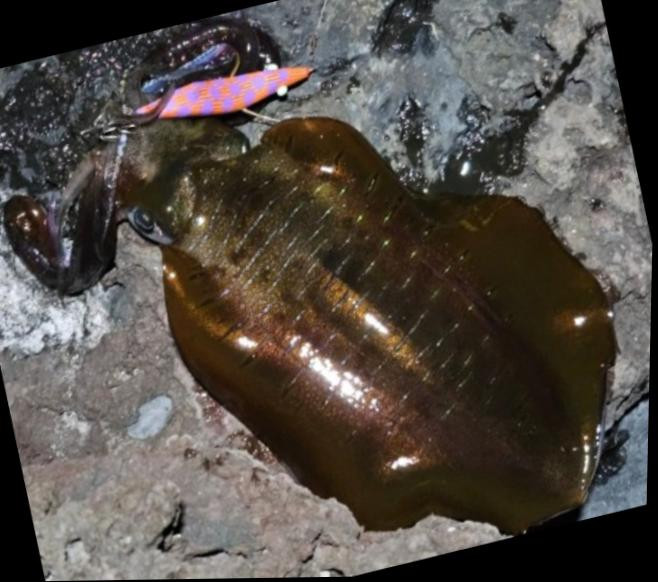Cephalopod: (0, 17, 618, 534)
